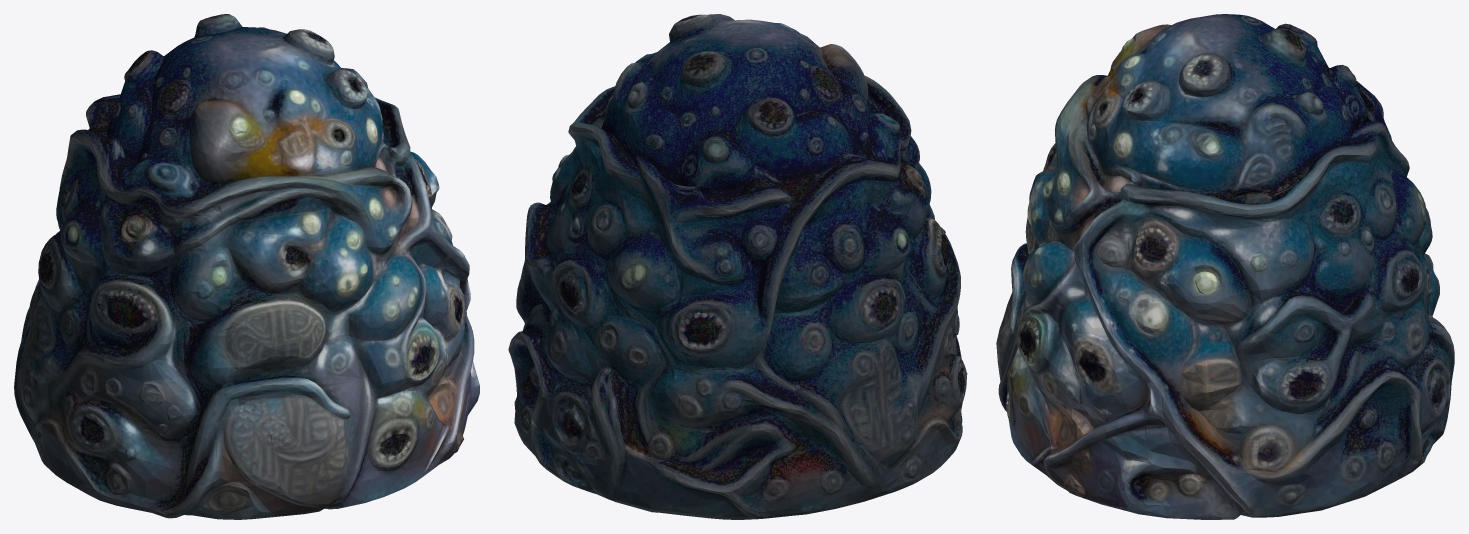
File: trenchHorror.glb
3 renders of one model, left to right at view 1: azimuth 30°, elevation 25°; view 2: azimuth 150°, elevation 25°; view 3: azimuth 270°, elevation 25°, orthographic.
Parts seen in each view (by area): view 1: world; view 2: world; view 3: world.
Part boxes in pixels (x1,y1,x2,y2): world: (14, 14, 479, 519); world: (508, 14, 967, 519); world: (996, 14, 1454, 519).
Size of the model in its own units: 0.9979 by 0.9599 by 0.9896.
1 material, 1 textured.
